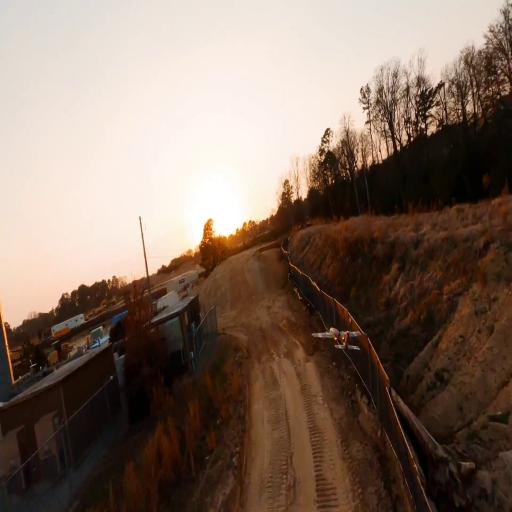uav: (312, 325, 362, 351)
